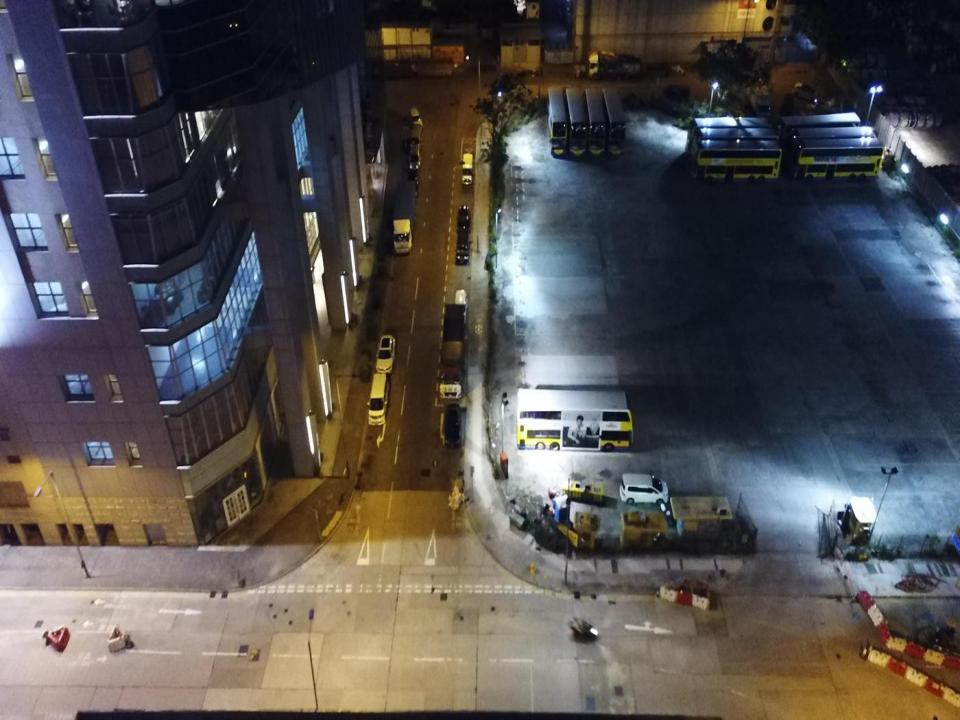bus: (514, 388, 634, 452), (692, 140, 782, 181), (792, 127, 878, 169), (695, 126, 781, 168), (777, 112, 863, 154), (792, 140, 880, 181), (687, 114, 772, 156), (601, 84, 624, 155), (547, 85, 569, 156), (584, 85, 606, 156), (564, 87, 586, 157)
car: (445, 404, 462, 448), (377, 335, 396, 374), (455, 289, 468, 324), (456, 233, 469, 264), (796, 83, 817, 100), (408, 145, 422, 170), (458, 205, 469, 232), (409, 107, 423, 128)
truck: (439, 300, 467, 398), (585, 51, 640, 84), (394, 182, 418, 252), (748, 77, 772, 118), (460, 152, 473, 184)
van: (618, 473, 670, 507), (368, 374, 390, 426), (411, 125, 422, 150)
